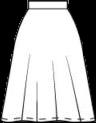Hemline: (0, 119, 94, 122)
Waistline: (28, 8, 68, 9), (28, 0, 66, 1)
